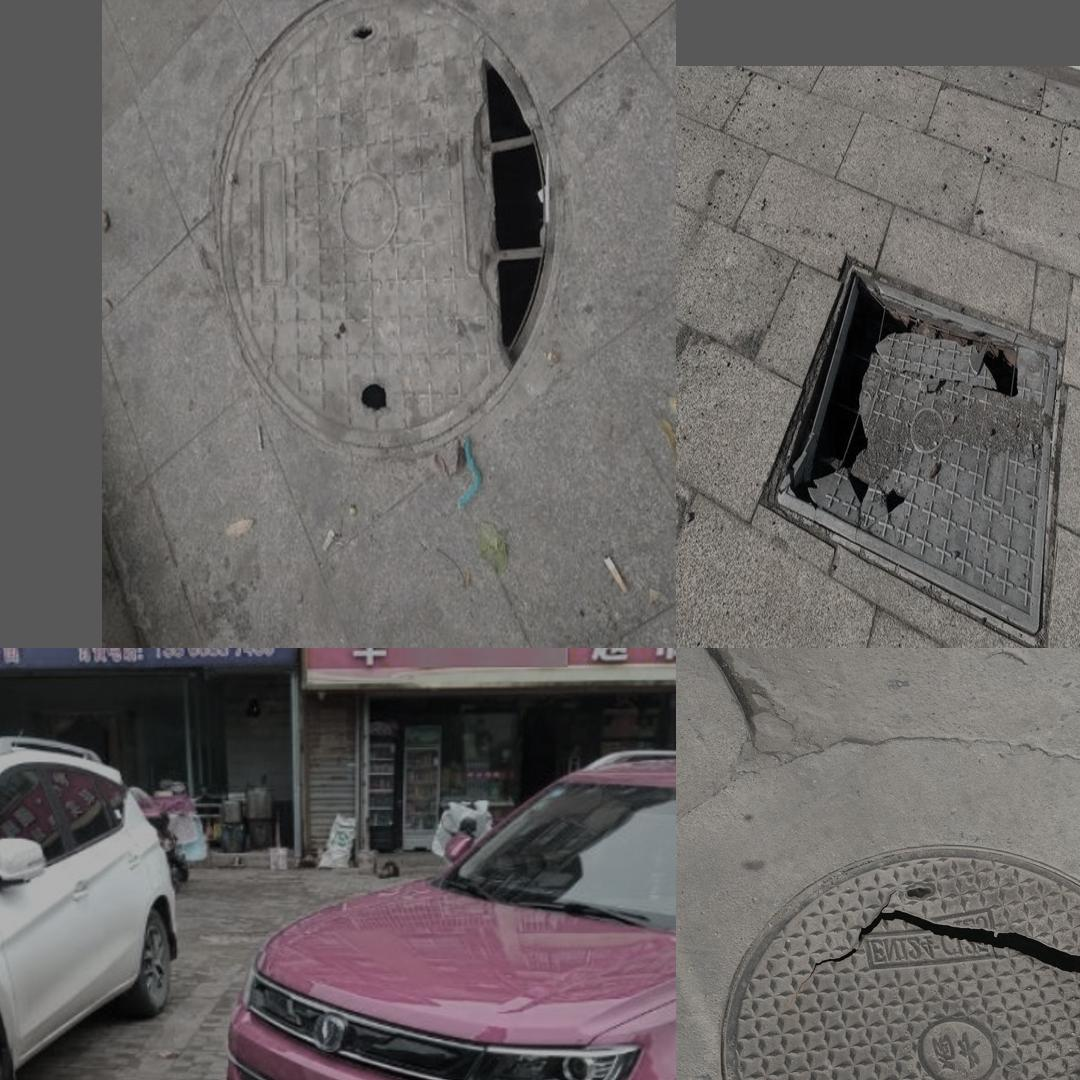broke: (199, 0, 579, 478), (758, 244, 1059, 646), (718, 843, 1080, 1080)
